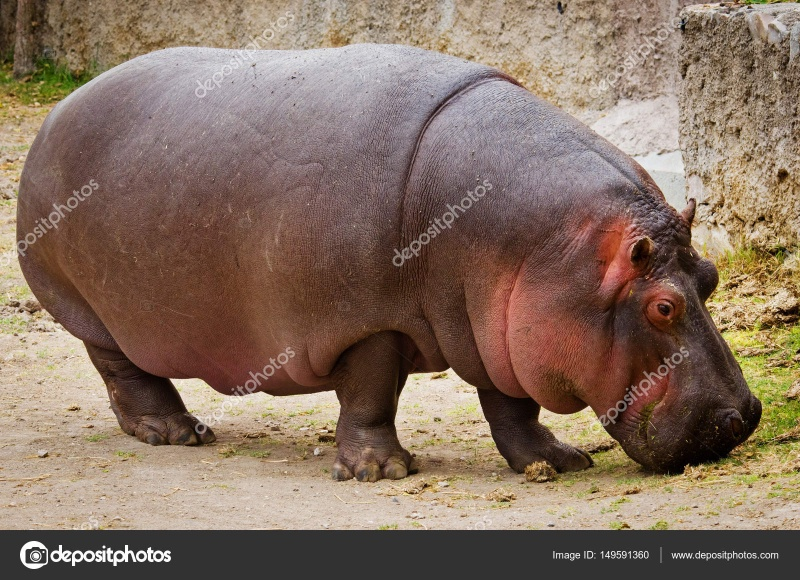hipopotamo: (15, 40, 767, 487)
